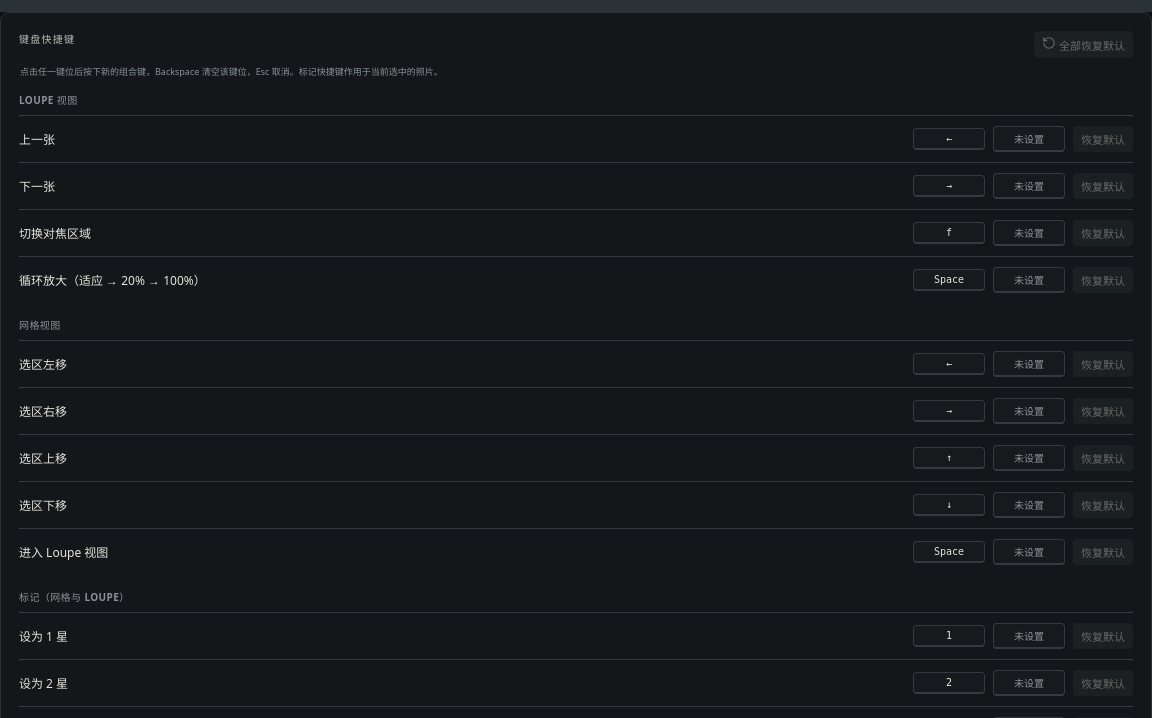
Test: rejects a binding that conflicts with another action
This screenshot has width=1152, height=718.
Click the button with class "shortcut-settings__keys" in the row of "上一张": (949, 139) top-left (913, 128), bottom-right (985, 150)
(page scrolled)
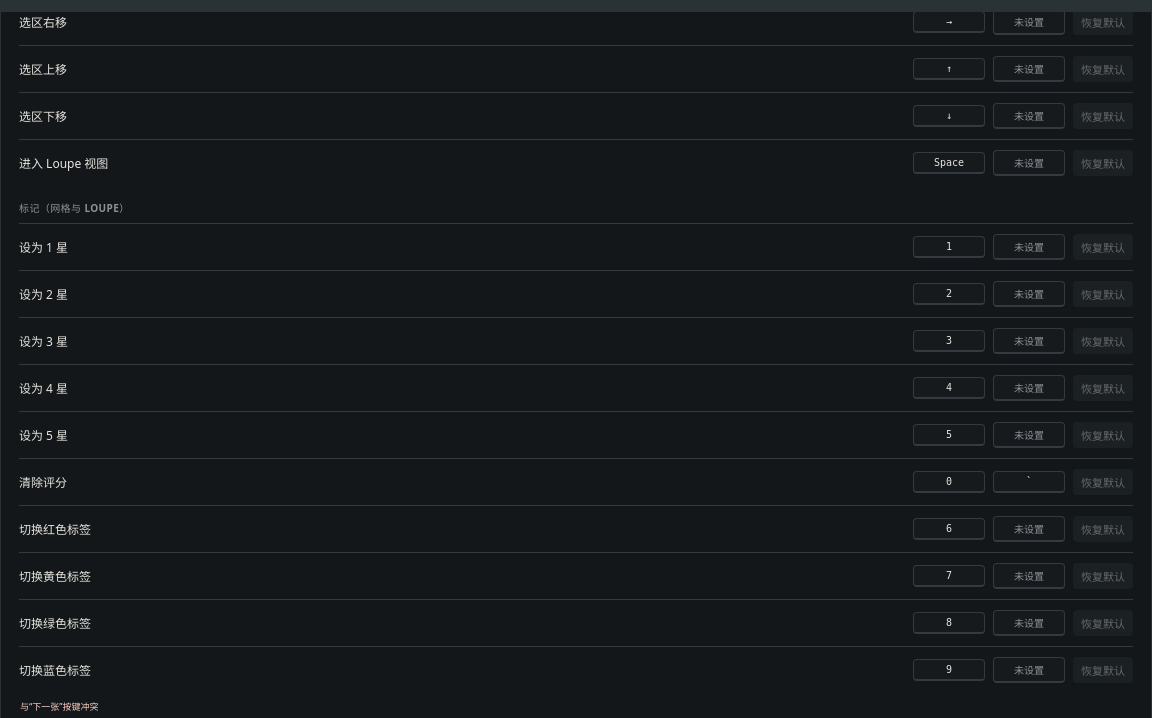
Expected: the message "与“下一张”按键冲突" is shown, top-left (20, 700), bottom-right (98, 713)
